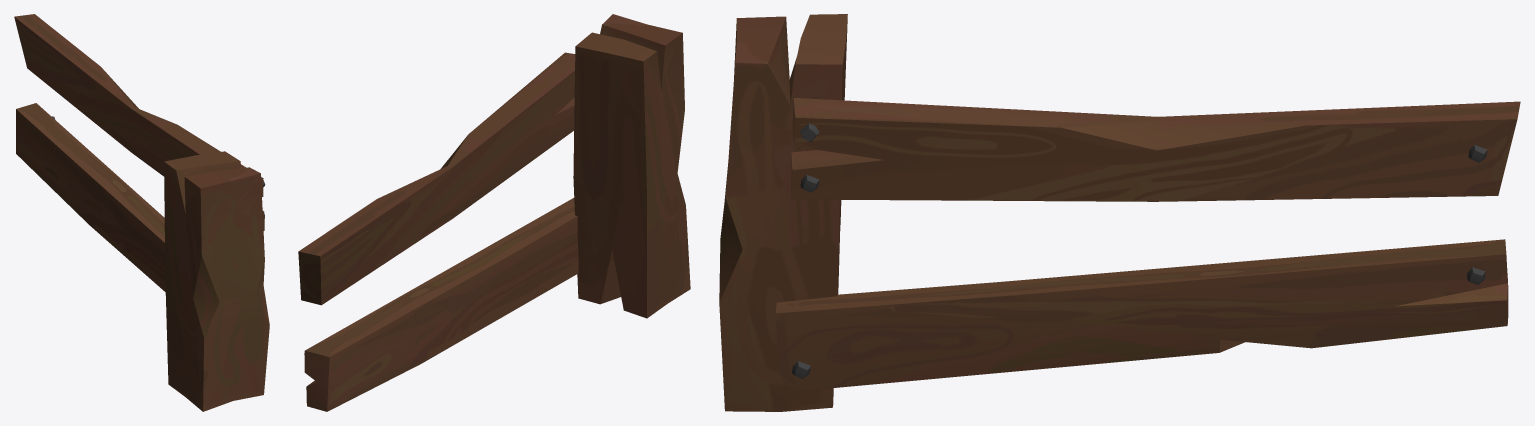
File: Fence4.fbx
The picture shows the model from 3 angles, left to right: view 1: azimuth 30°, elevation 25°; view 2: azimuth 150°, elevation 25°; view 3: azimuth 270°, elevation 25°; orthographic projection. The views are drawn at different scales.
Visible parts, largest first — view 1: Słupek.001; view 2: Słupek.001; view 3: Słupek.001.
Part boxes in pixels (<box>): Słupek.001: <box>14,14,269,411</box>; Słupek.001: <box>298,14,690,411</box>; Słupek.001: <box>719,14,1520,411</box>.
Bounding box in the file's own units: 37.58 × 90.05 × 186.
1 material, 1 textured.
